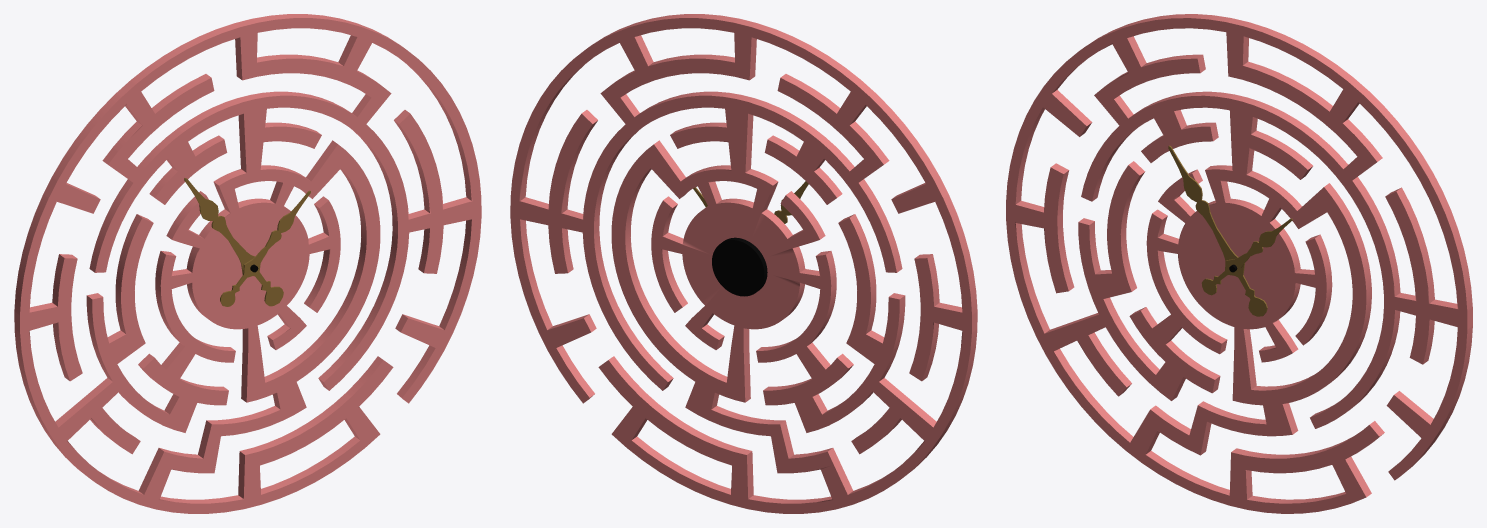
Rendered from wall clock.FBX.
3 renders of one model, left to right at view 1: azimuth 30°, elevation 25°; view 2: azimuth 150°, elevation 25°; view 3: azimuth 330°, elevation 25°, orthographic.
Visible parts, largest first — view 1: Cylinder004, Line022, Line023; view 2: Cylinder004, Cylinder006; view 3: Cylinder004, Line022, Line023.
Part boxes in pixels (box(x1,y1,x2,y2)): Cylinder004: box(14, 14, 481, 513); Line022: box(184, 178, 283, 306); Line023: box(220, 190, 310, 306); Cylinder004: box(510, 14, 977, 513); Cylinder006: box(712, 237, 767, 296); Cylinder004: box(1006, 14, 1472, 513); Line022: box(1168, 145, 1267, 316); Line023: box(1201, 218, 1292, 295).
Bounding box in the file's own units: 23.99 × 23.99 × 1.17.
